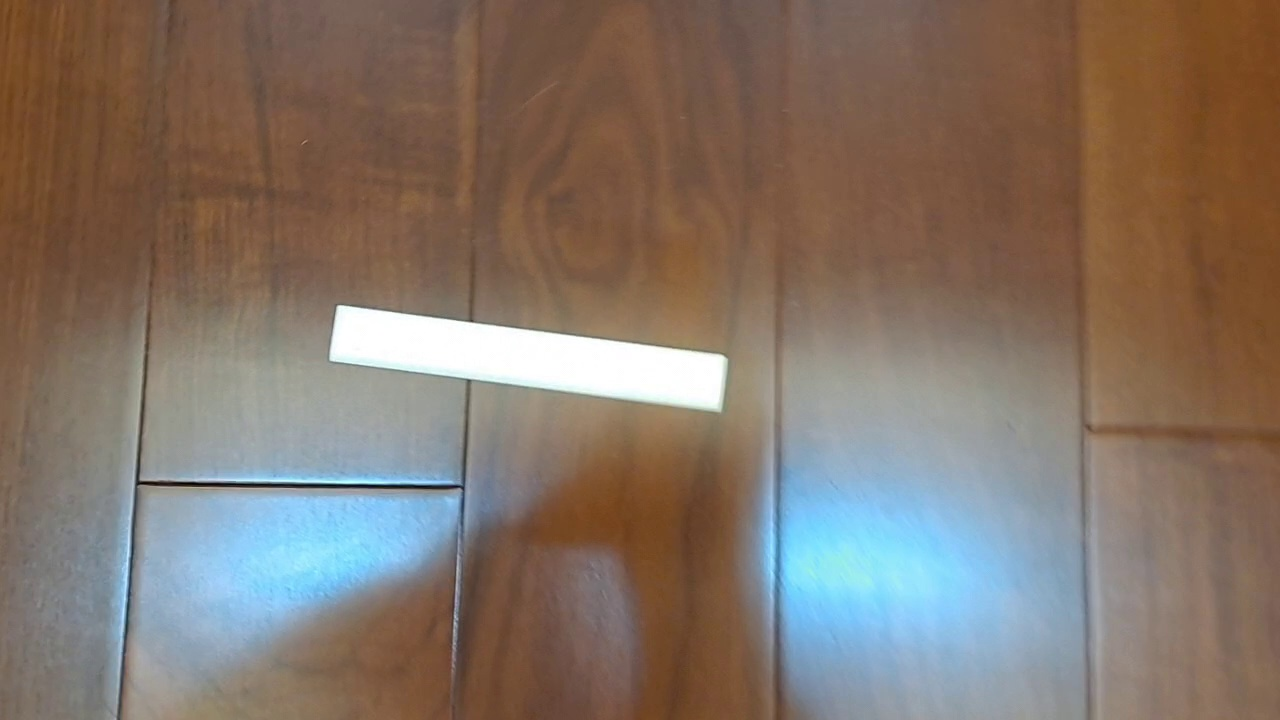ruler: (328, 303, 729, 415)
